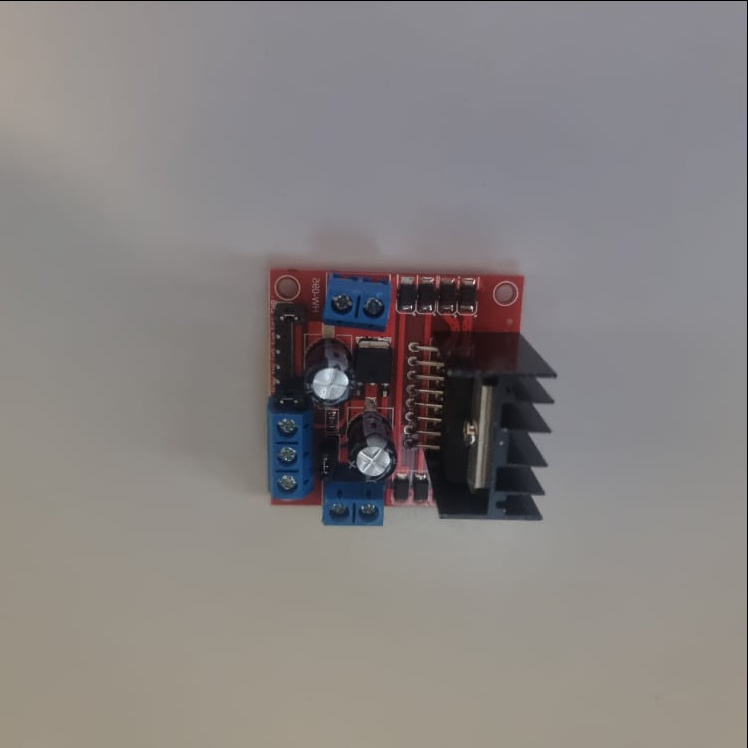MOTOR: (266, 271, 564, 526)
